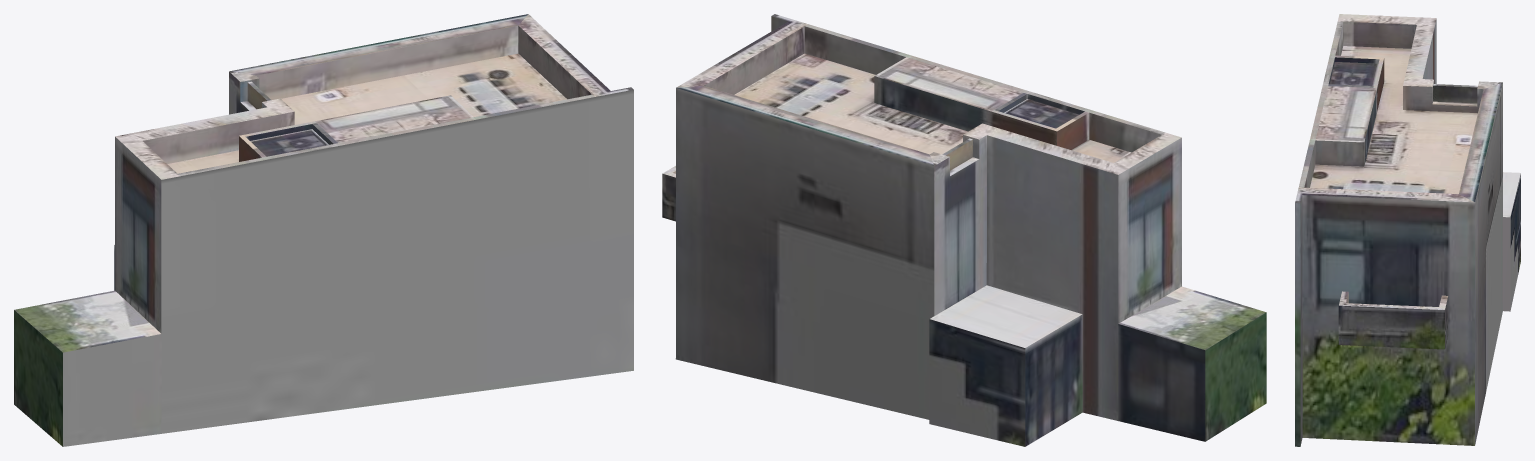
The picture shows the model from 3 angles, left to right: view 1: azimuth 30°, elevation 25°; view 2: azimuth 150°, elevation 25°; view 3: azimuth 270°, elevation 25°; orthographic projection. The views are drawn at different scales.
Parts seen in each view (by area): view 1: B286014032801062A0; view 2: B286014032801062A0; view 3: B286014032801062A0.
Part boxes in pixels (<box>): B286014032801062A0: <box>14,14,633,446</box>; B286014032801062A0: <box>662,14,1266,446</box>; B286014032801062A0: <box>1295,14,1520,446</box>.
Bounding box in the file's own units: 19.78 × 9.33 × 7.84.
Materials: 1 (1 with a texture image).
